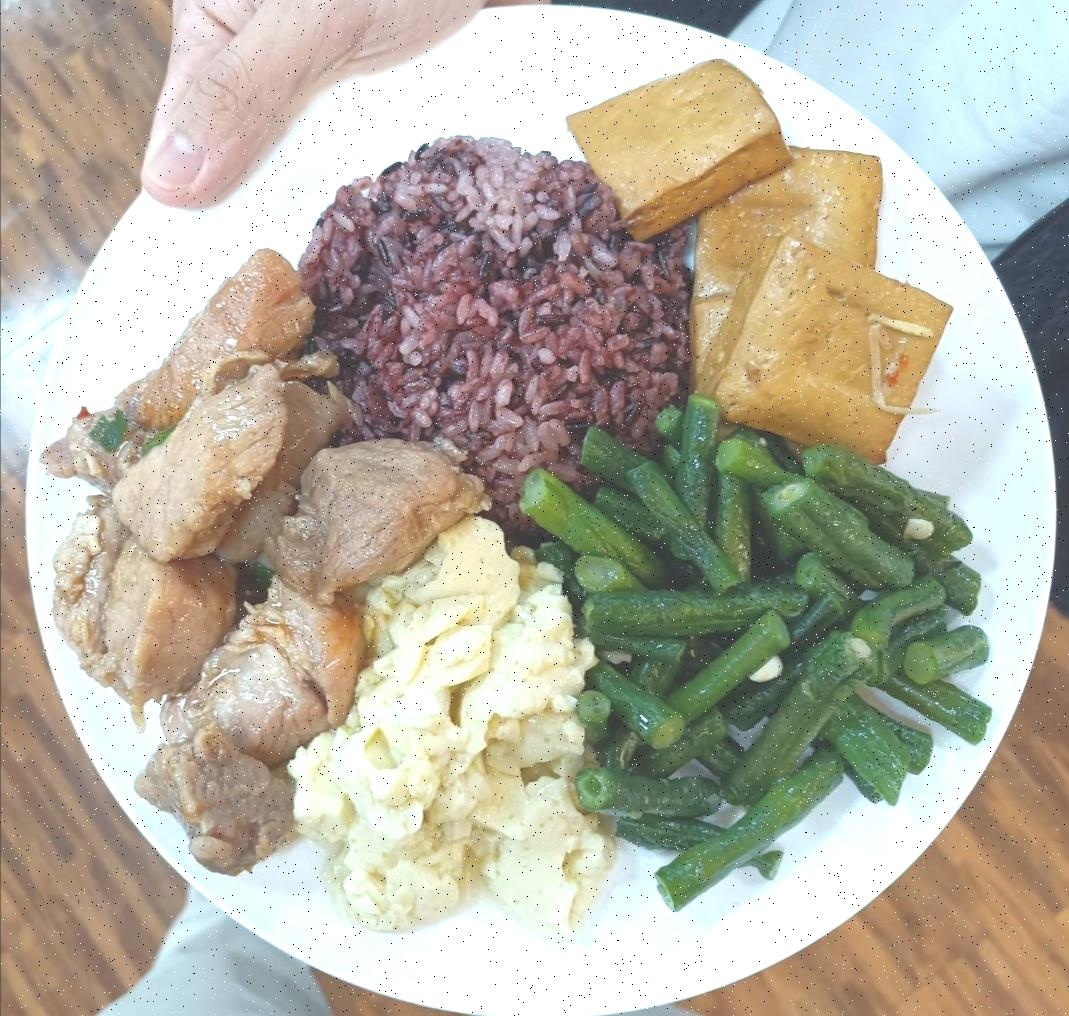big fried chicken leg: (28, 5, 1069, 1014)
braised fish: (298, 140, 696, 500)
braised fish fillet: (518, 398, 1000, 896), (560, 48, 954, 458), (290, 516, 600, 931)
braised pork: (38, 250, 472, 882)
